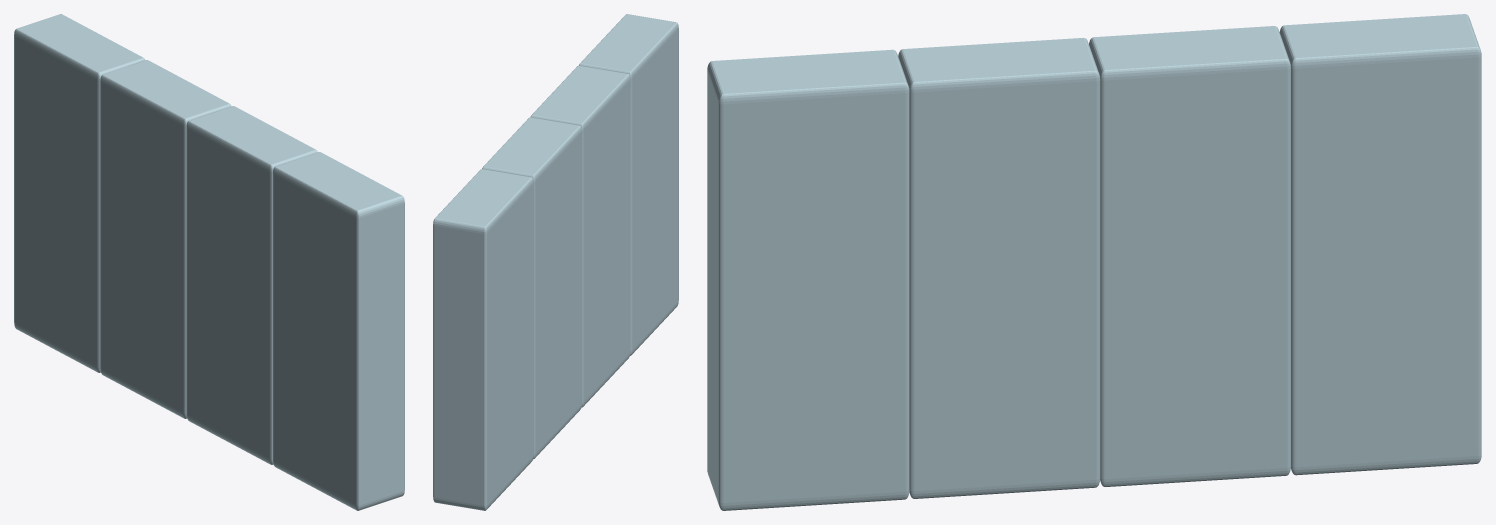
File: WallWall.fbx
The picture shows the model from 3 angles, left to right: view 1: azimuth 30°, elevation 25°; view 2: azimuth 150°, elevation 25°; view 3: azimuth 270°, elevation 25°; orthographic projection. The views are drawn at different scales.
Parts seen in each view (by area): view 1: Cube.001; view 2: Cube.001; view 3: Cube.001.
Part boxes in pixels (x1,y1,x2,y2): Cube.001: (14, 14, 404, 510); Cube.001: (433, 14, 678, 510); Cube.001: (707, 14, 1481, 510).
Size of the model in its own units: 203 by 477 by 803.
